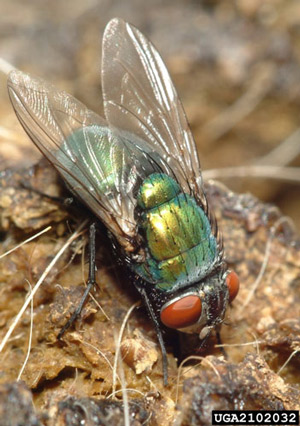green bottles flies: (2, 13, 244, 399)
